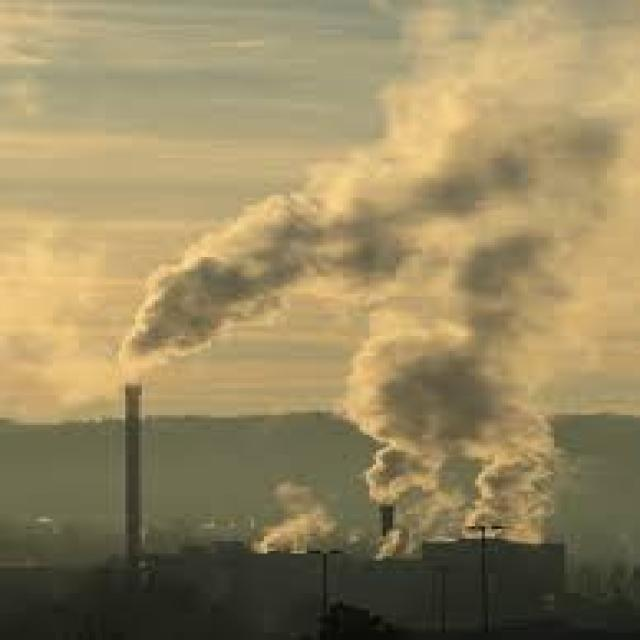Smoke: (116, 0, 640, 564)
